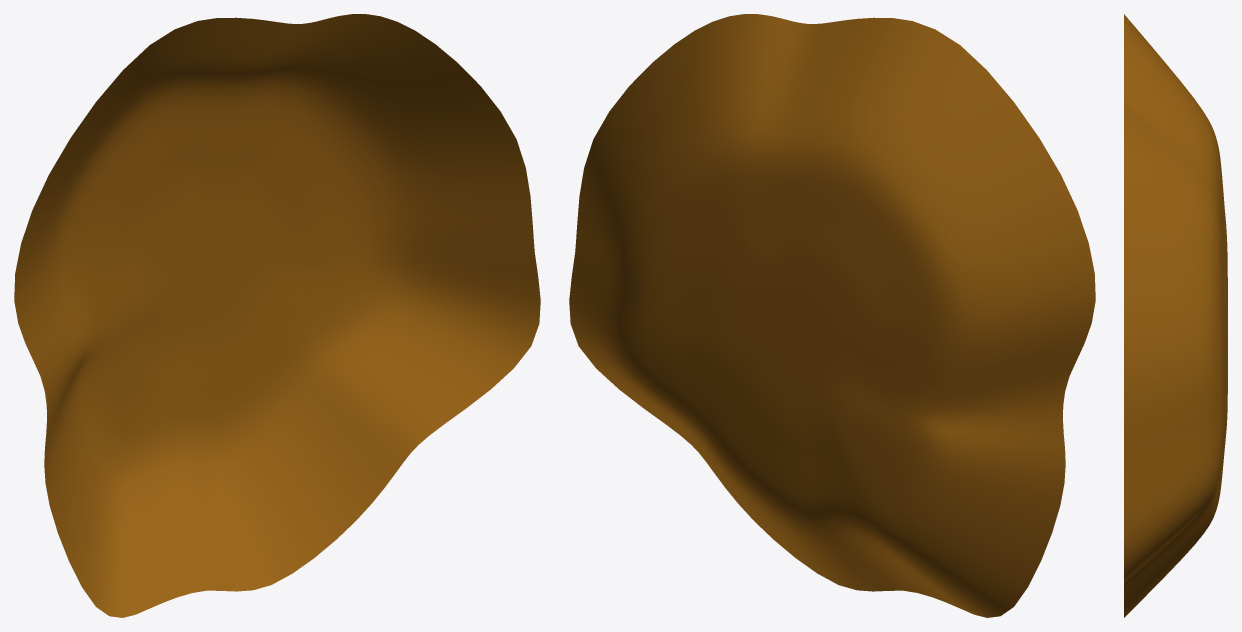
File: Island01.fbx
3 renders of one model, left to right at view 1: azimuth 30°, elevation 25°; view 2: azimuth 150°, elevation 25°; view 3: azimuth 270°, elevation 25°, orthographic. The views are drawn at different scales.
Visible parts, largest first — view 1: Island01; view 2: Island01; view 3: Island01.
Boxes of the visible parts, box(x1,y1,x2,y2) form: Island01: box(14, 14, 540, 617); Island01: box(569, 14, 1095, 617); Island01: box(1124, 14, 1227, 617).
Size of the model in its own units: 3111 by 3290 by 557.
